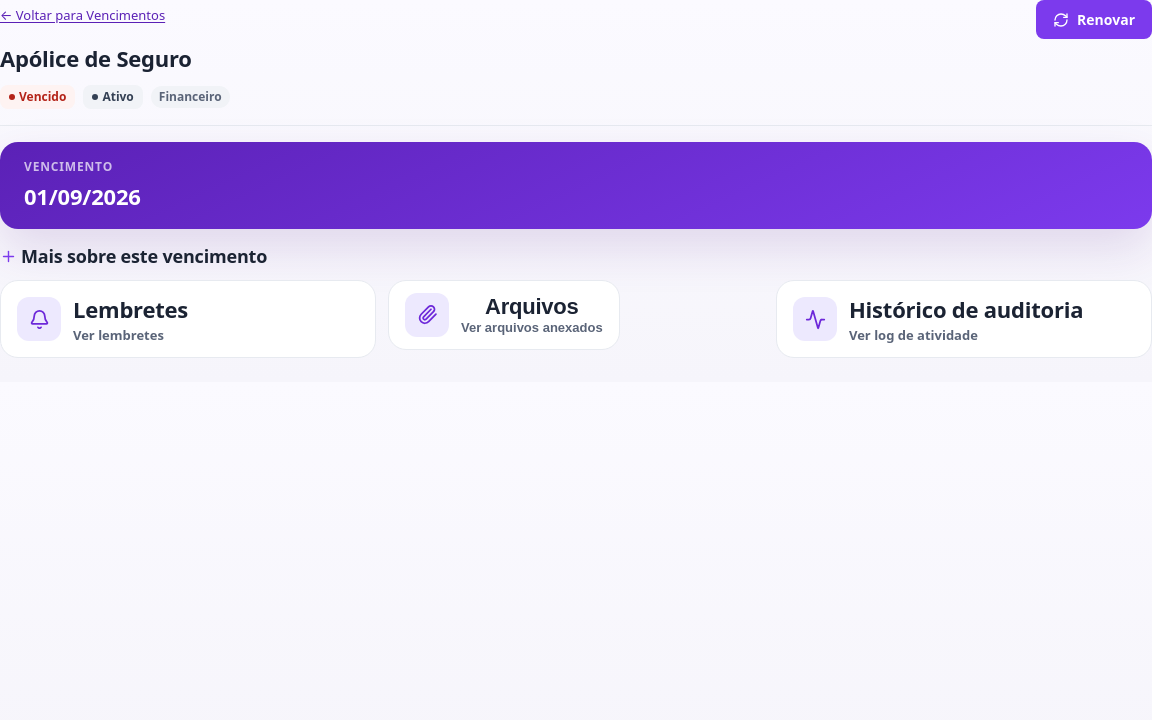
Test case: ItemDetail › renders the item's fields and a Renovar button that opens the renew modal when it's ACTIVE
Check: the heading "Apólice de Seguro" is shown, box [0, 43, 192, 73]
Check: the text "Financeiro" is shown, box [151, 86, 230, 108]
Click the button "Renovar".
click(1094, 20)  # box [1036, 0, 1151, 39]
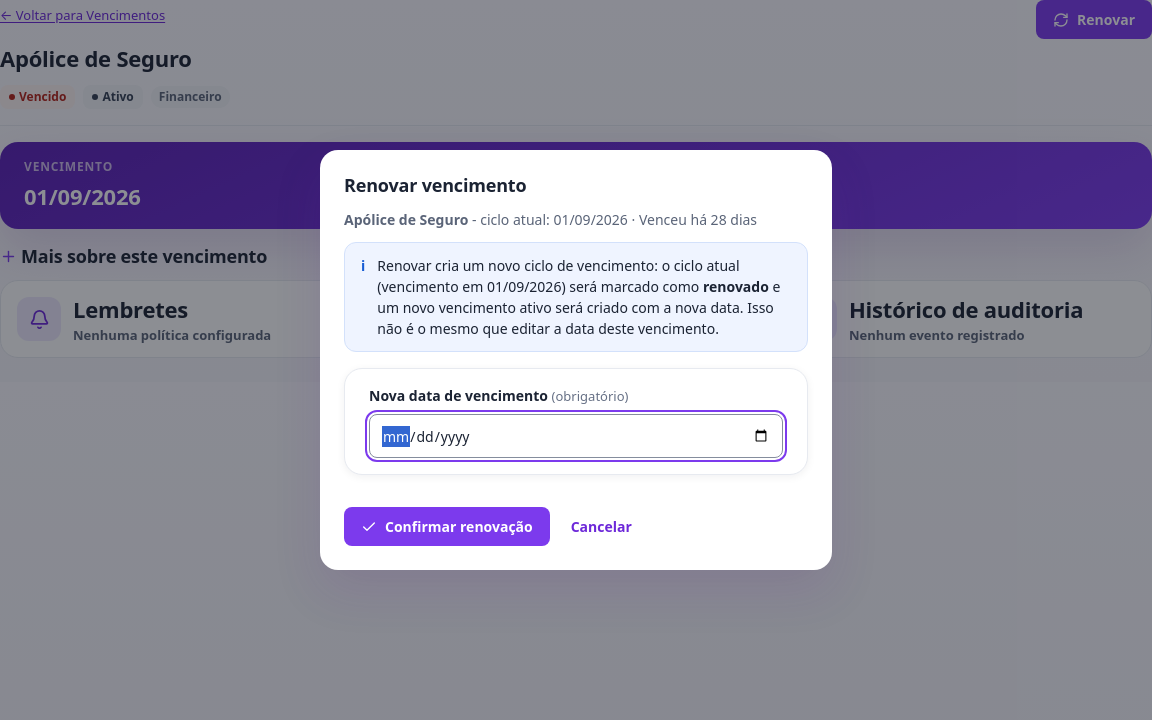
Check: the dialog "Renovar vencimento" is shown, box [320, 150, 832, 570]
